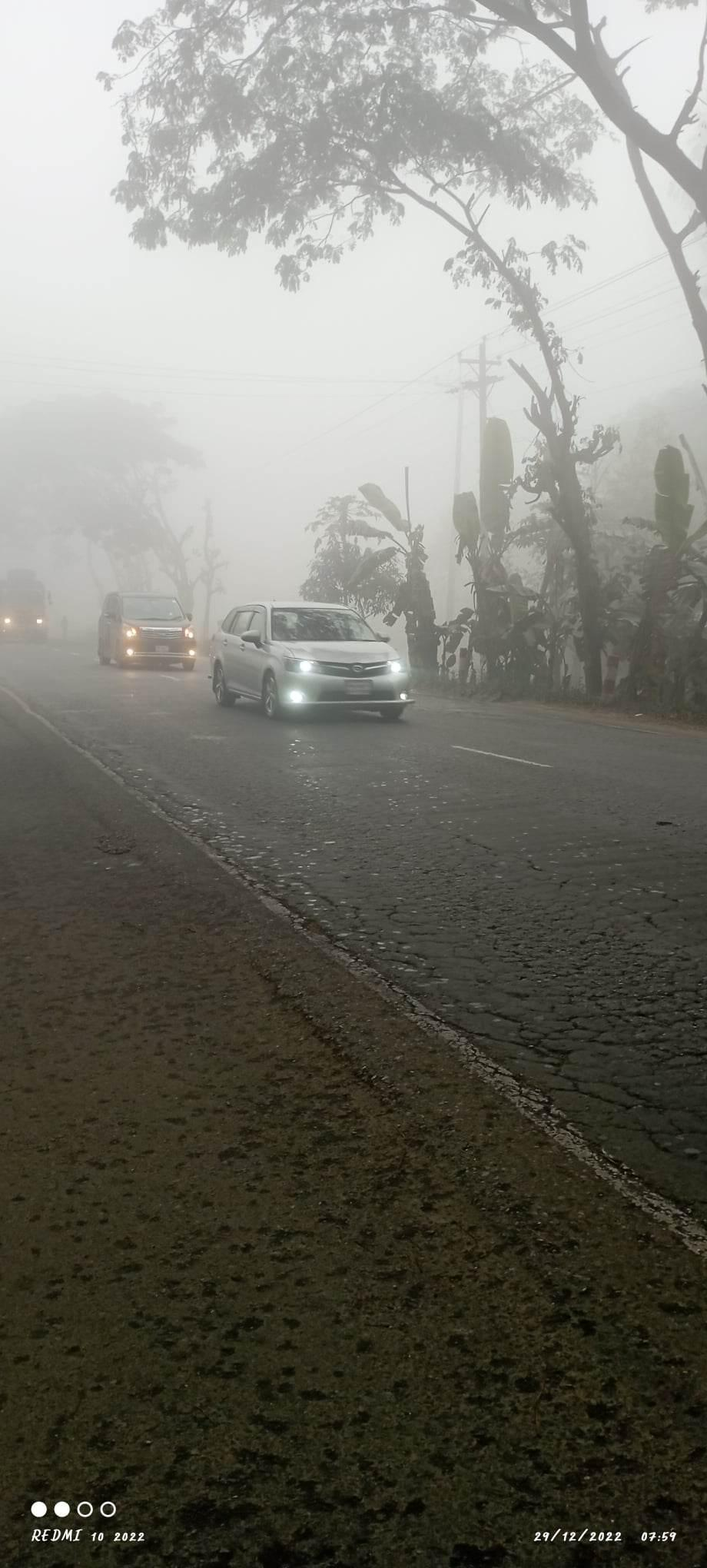Car: (194, 599, 433, 736), (86, 574, 212, 674)
